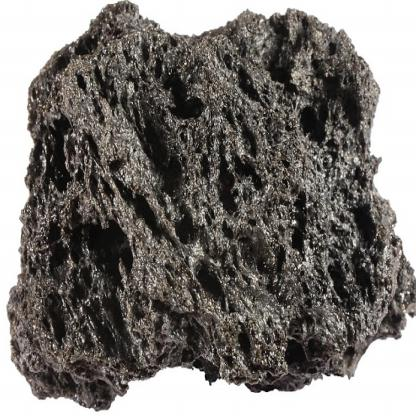Igneous_Basalt: (4, 0, 415, 410)
